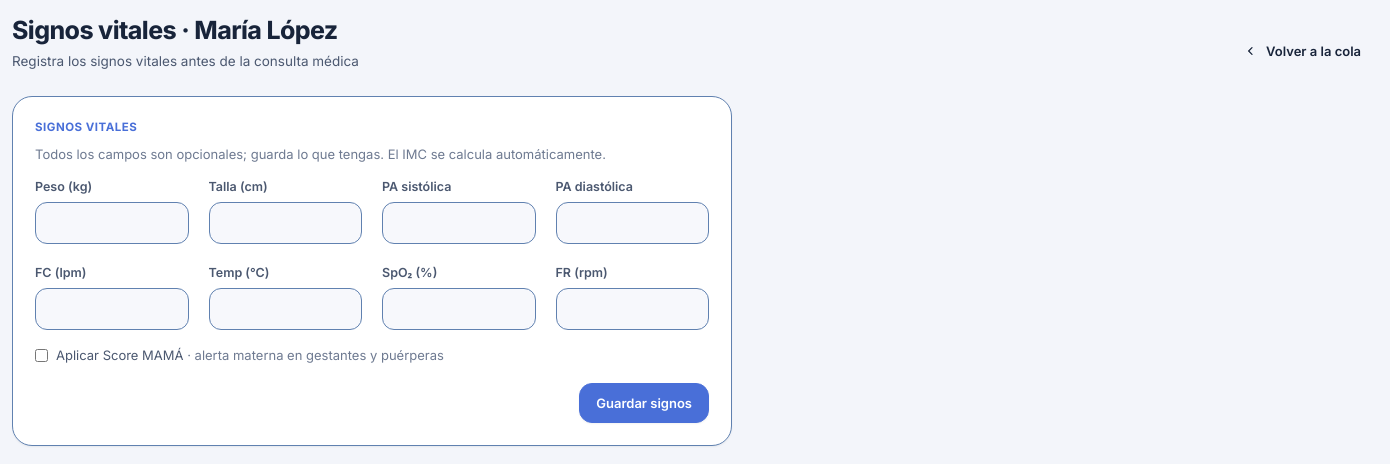
TriagePage › offers the next patient waiting for triage
The width and height of the screenshot is (1390, 464).
Click the button "Guardar signos": (644, 403) [579,382,709,423]
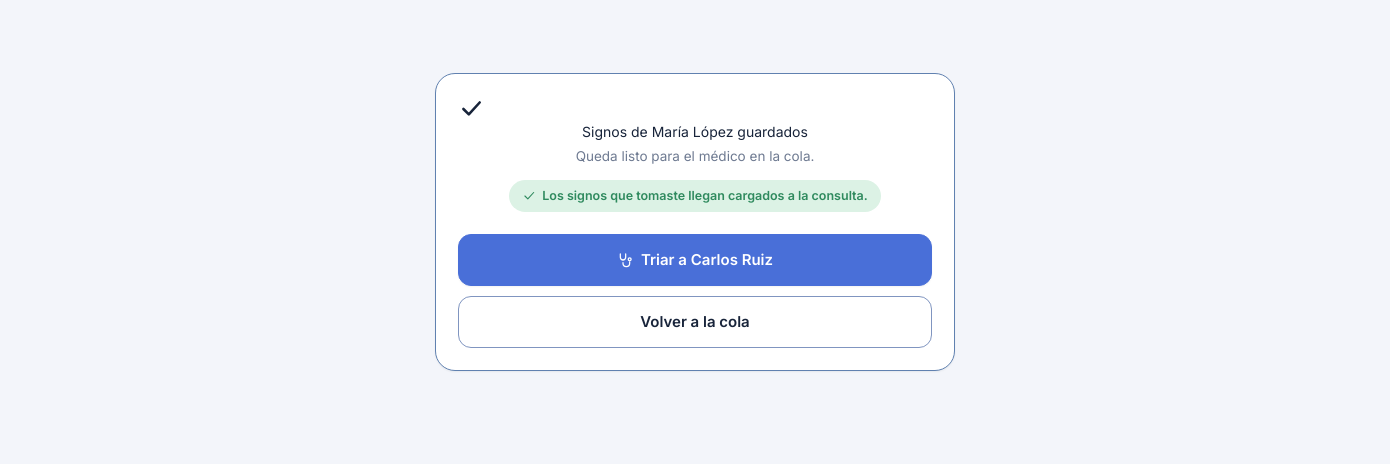
expect the button "Triar a Carlos Ruiz" is shown: met, box [458,234,932,286]
